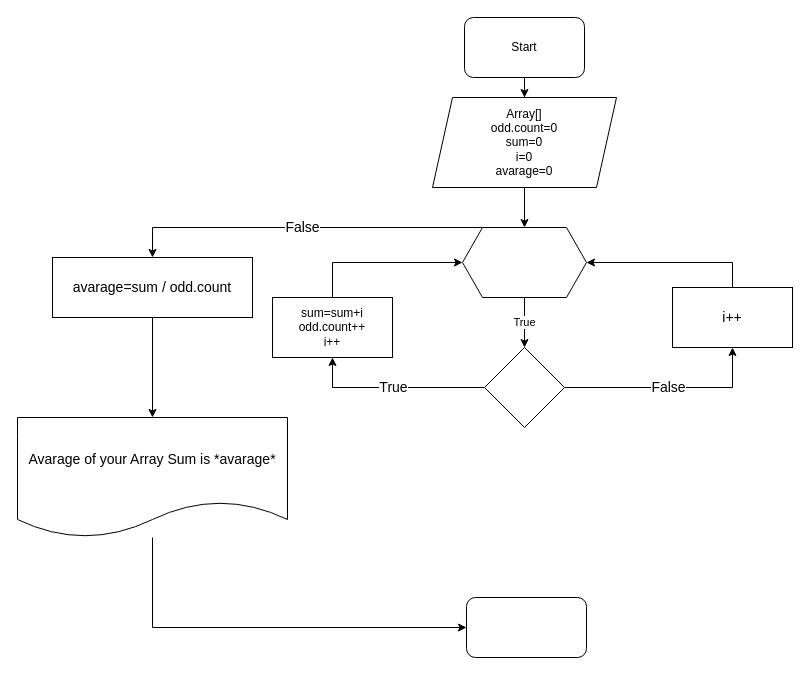
Image size: 810x675. Some labels were removed from this diagram. Each missing label, with the box of its shape:
end: (466, 596, 586, 658)
i%2==1: (484, 346, 564, 428)
i<array.length: (462, 226, 586, 298)
